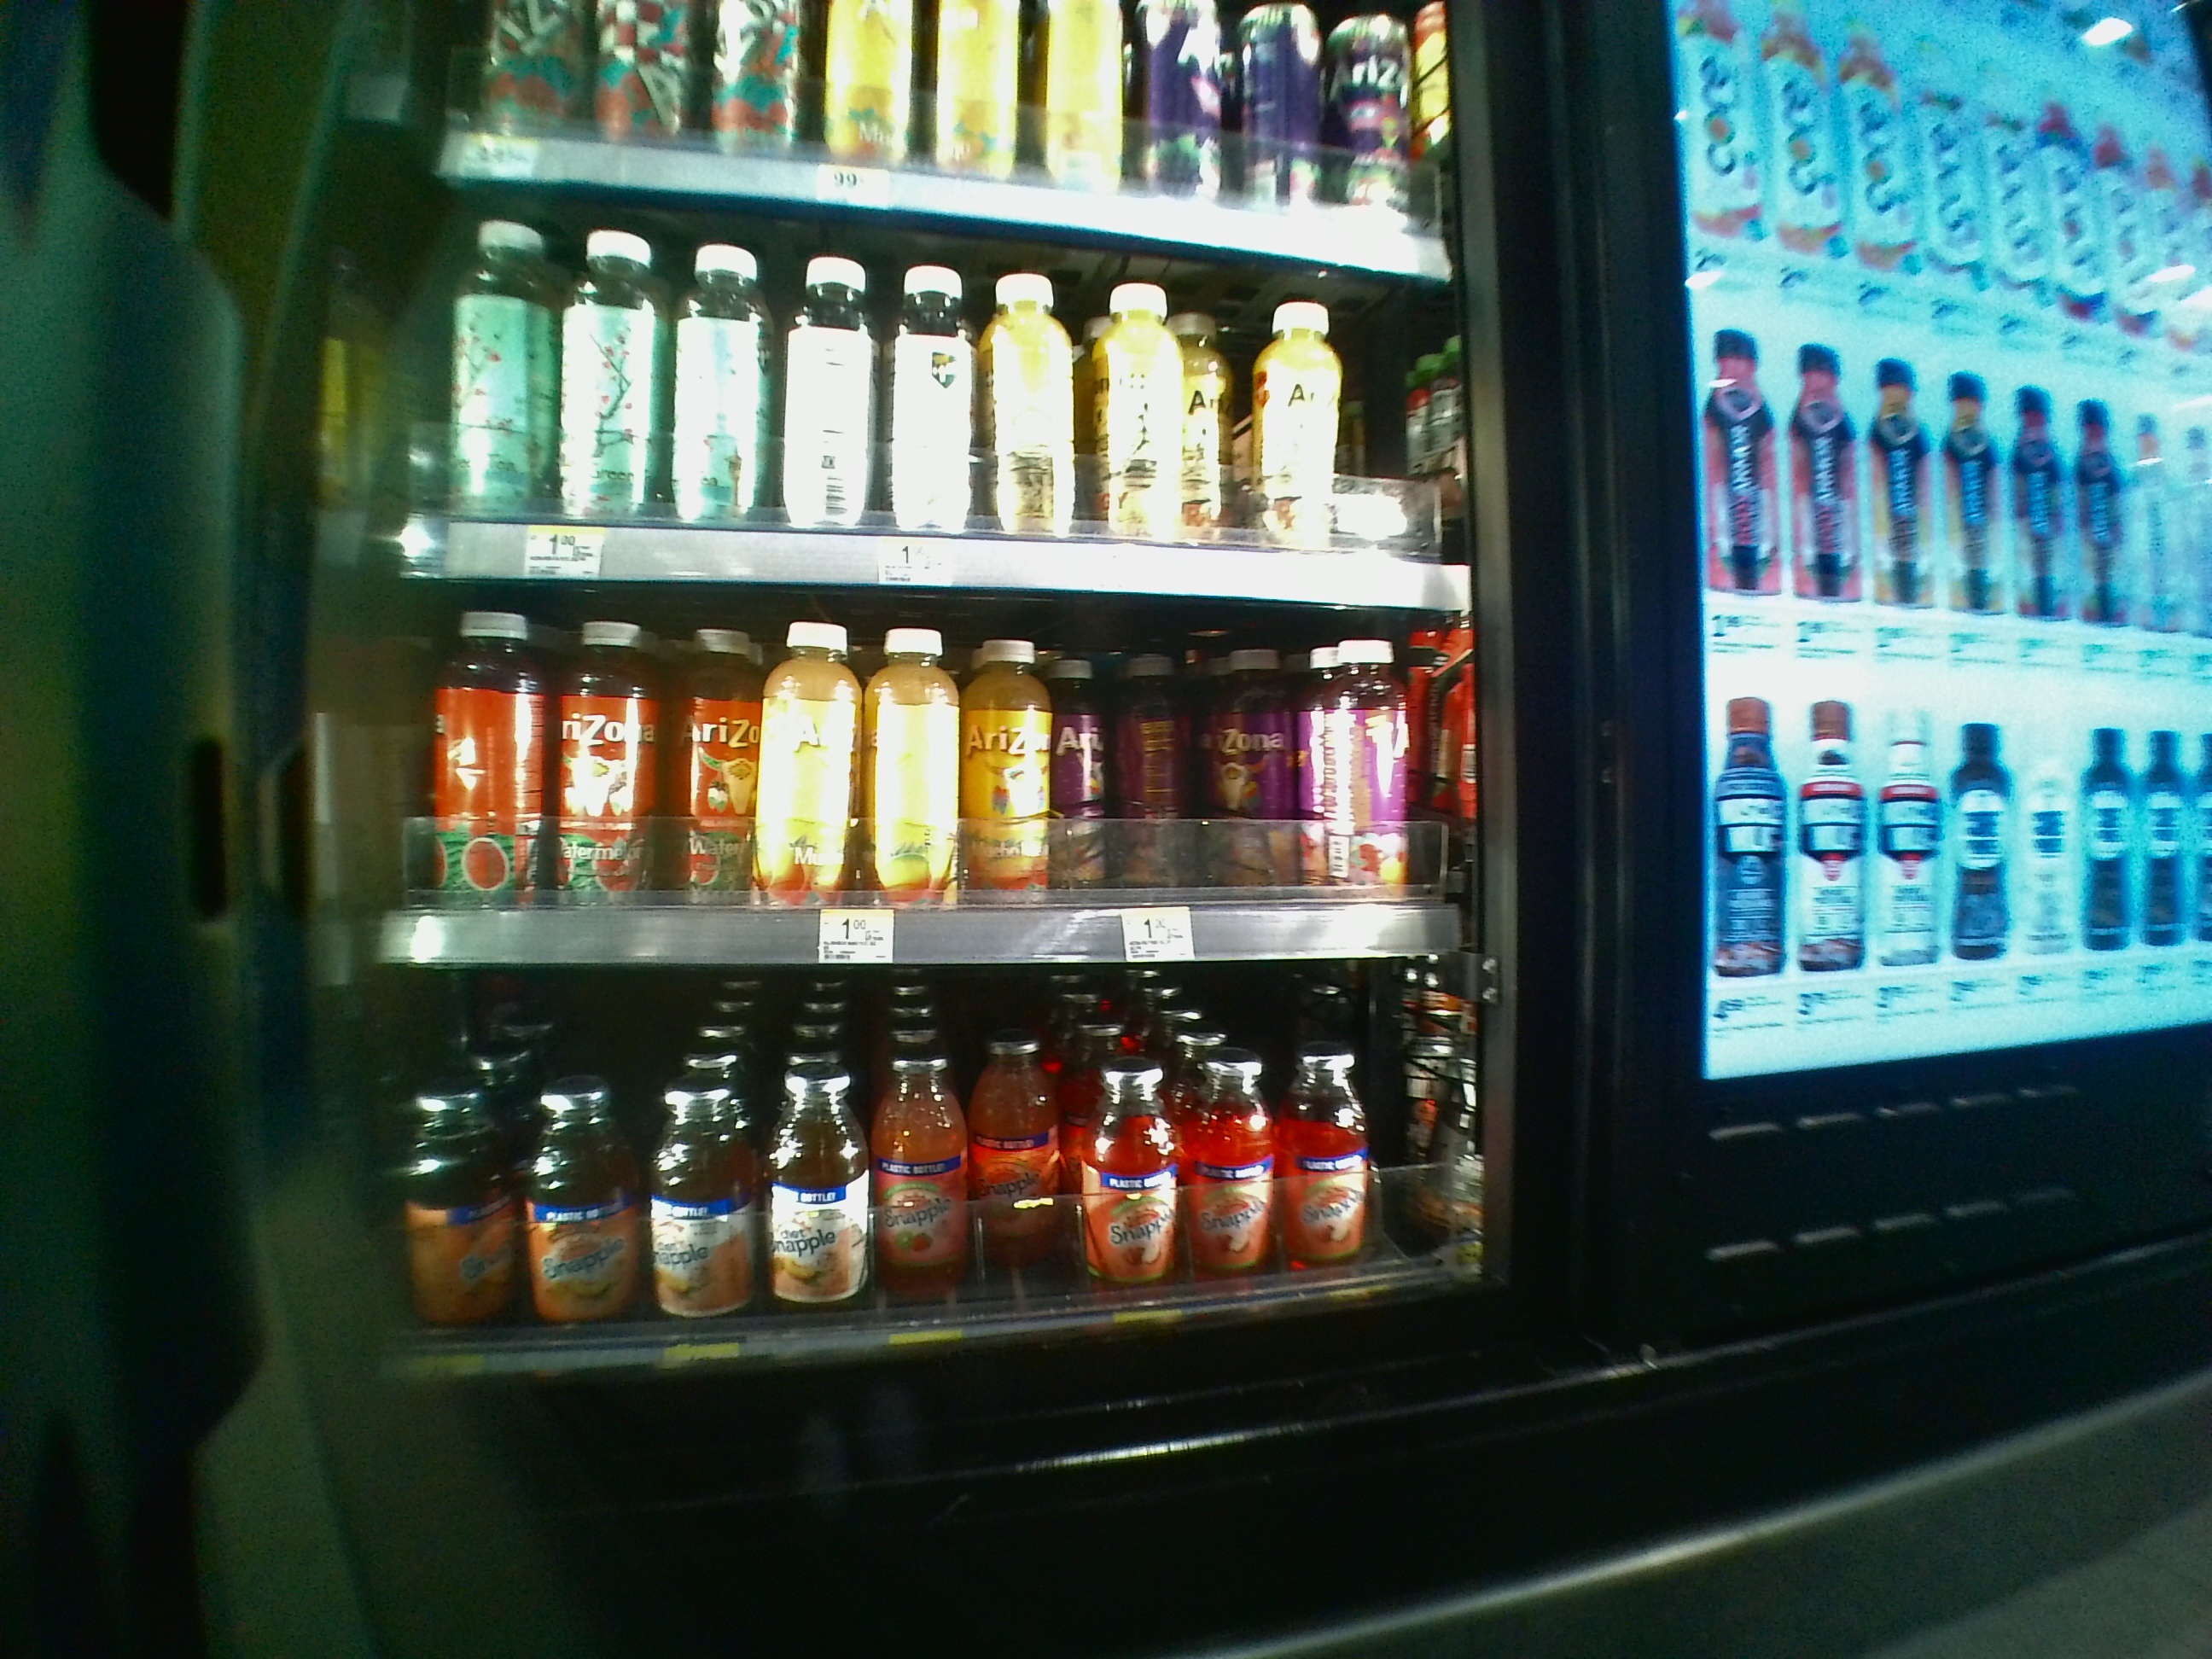shelf: (364, 974, 1496, 1377), (371, 591, 1474, 967)
